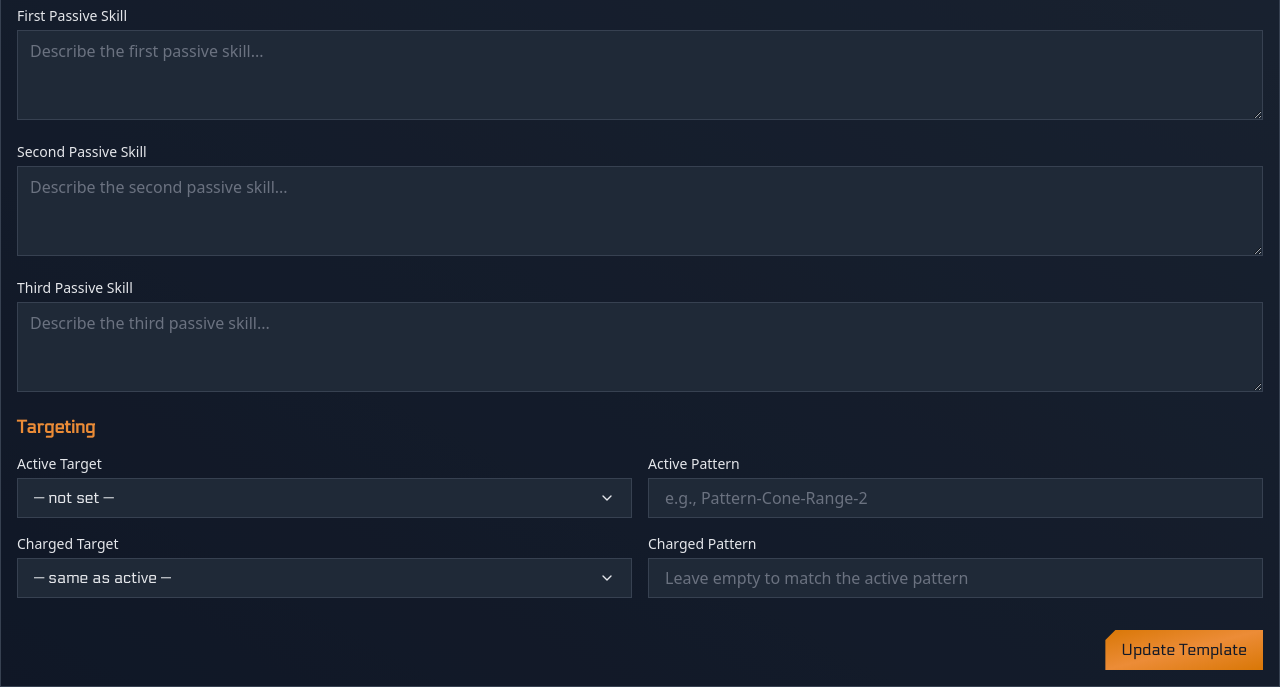
Test: AddShipTemplateForm — targeting fields › blocks submission for an unparseable CHARGED pattern too
(page scrolled)
Type "Pattern-Nonsense" into the field labelled "Charged Pattern" at (956, 578), box [648,558,1263,598]
(page scrolled)
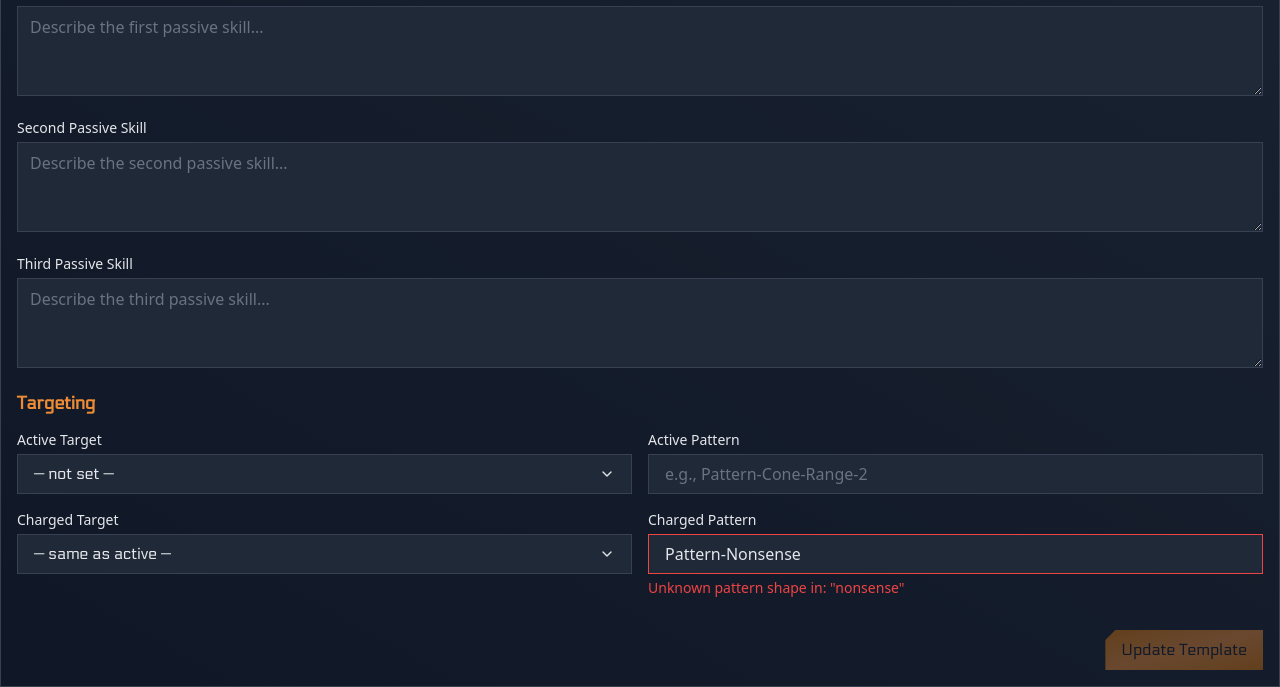
Now the button "Update Template" is disabled, box [1105,630,1263,670]
